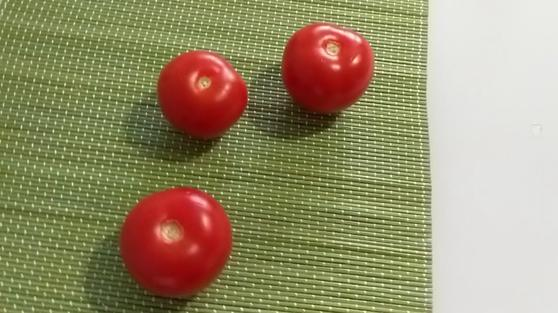tomato: (121, 185, 233, 297), (281, 22, 374, 115), (158, 50, 249, 140)
